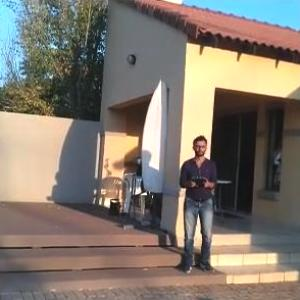follow: (170, 130, 220, 276)
